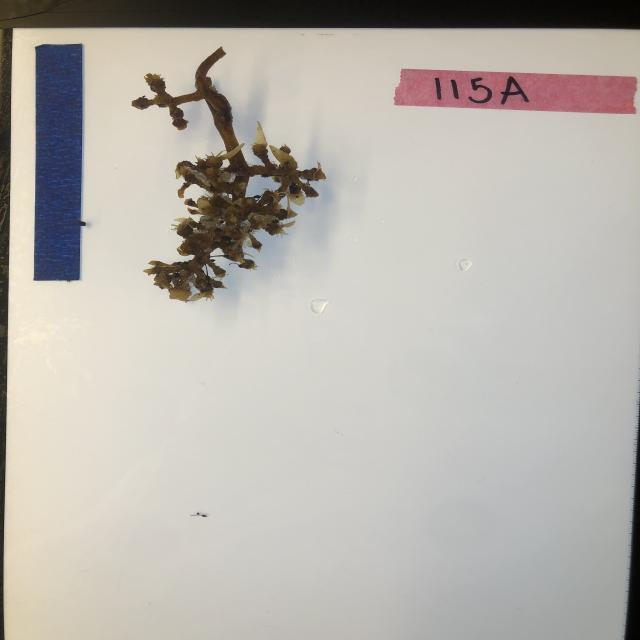index: (392, 66, 640, 115)
measure_label: (36, 41, 83, 282)
rachis_cluster: (125, 42, 335, 306)
